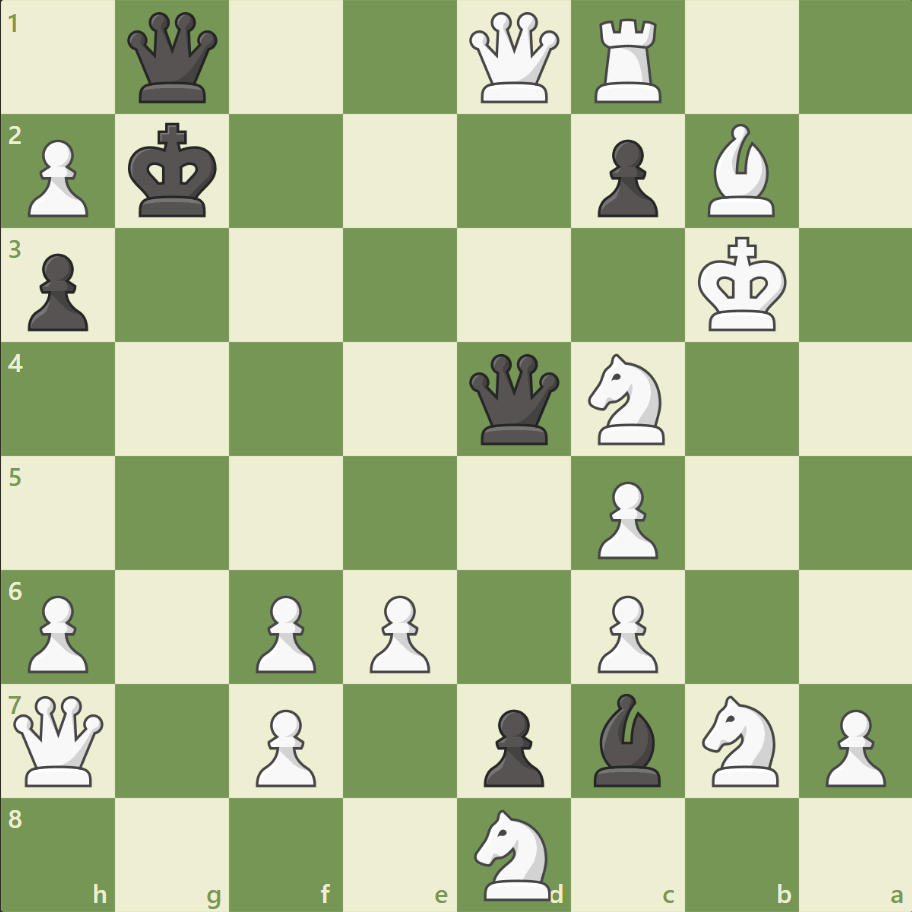B: (698, 120, 782, 222)
K: (692, 231, 792, 339)
N: (692, 688, 789, 791), (465, 802, 562, 904), (579, 348, 676, 450)
P: (247, 700, 322, 791), (247, 586, 322, 677), (20, 586, 95, 677), (20, 132, 95, 223), (815, 700, 889, 791), (588, 586, 662, 677), (361, 586, 435, 677), (588, 473, 662, 564)
Q: (10, 690, 109, 789), (464, 9, 563, 108)
R: (587, 12, 670, 109)
b: (585, 687, 669, 790)
k: (124, 117, 224, 225)
p: (474, 700, 549, 791), (20, 246, 95, 337), (588, 132, 662, 223)
q: (464, 349, 563, 449), (124, 9, 223, 108)
